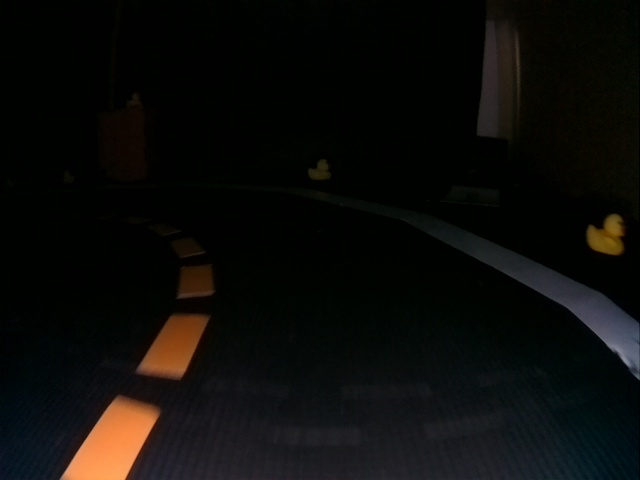Duckie: (587, 215, 625, 254), (309, 161, 328, 178)
